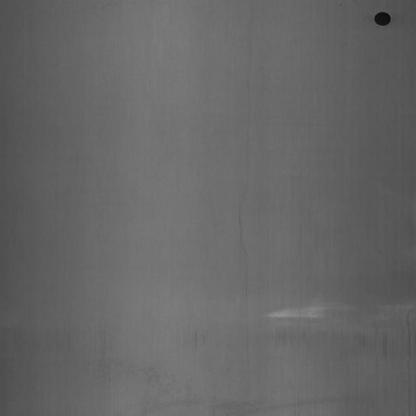punching_hole: (373, 5, 393, 28)
